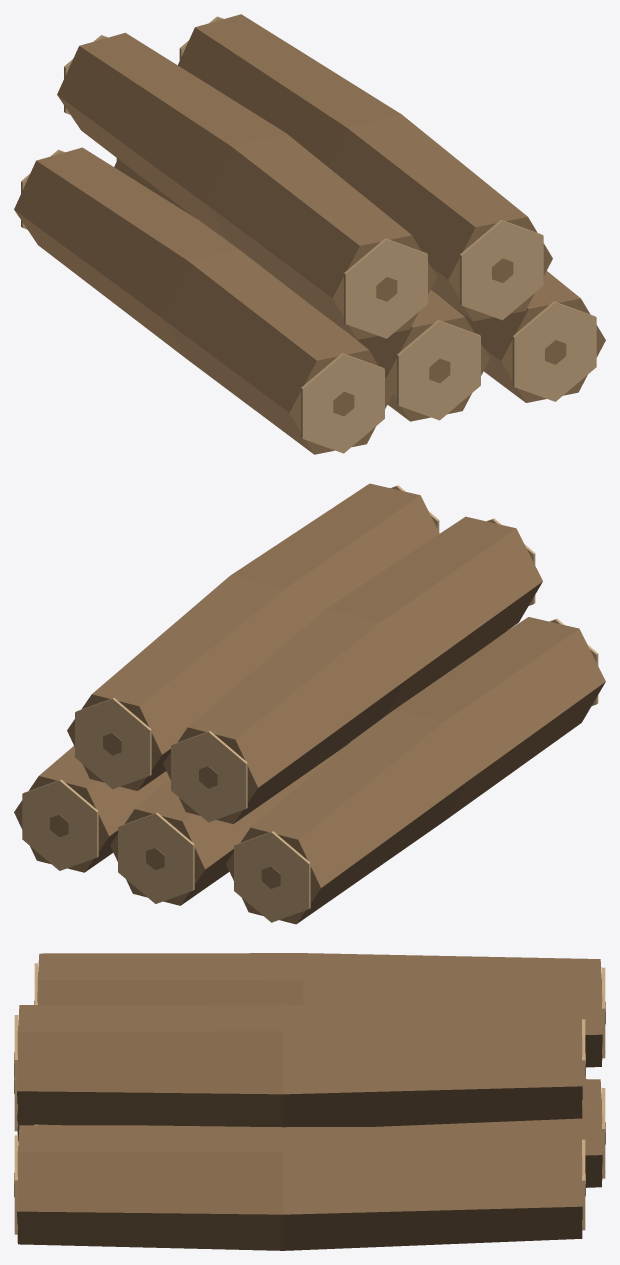
File: log_pile_m.glb
3 views of the same model, one above another, from view 1: azimuth 30°, elevation 25°; view 2: azimuth 150°, elevation 25°; view 3: azimuth 270°, elevation 25° (orthographic).
Parts seen in each view (by area): view 1: log_pile_m; view 2: log_pile_m; view 3: log_pile_m.
Boxes of the visible parts, bbox=[...] form: log_pile_m: bbox=[14, 14, 605, 454]; log_pile_m: bbox=[14, 483, 605, 924]; log_pile_m: bbox=[14, 953, 605, 1250].
Bounding box in the file's own units: 0.5651 × 0.3231 × 0.894.
